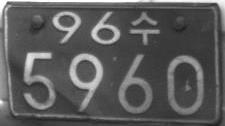0: (166, 53, 205, 117)
5: (21, 51, 57, 111)
6: (117, 53, 153, 115), (90, 10, 121, 45)
9: (68, 51, 103, 113), (50, 9, 82, 45)
수: (129, 9, 159, 45)
